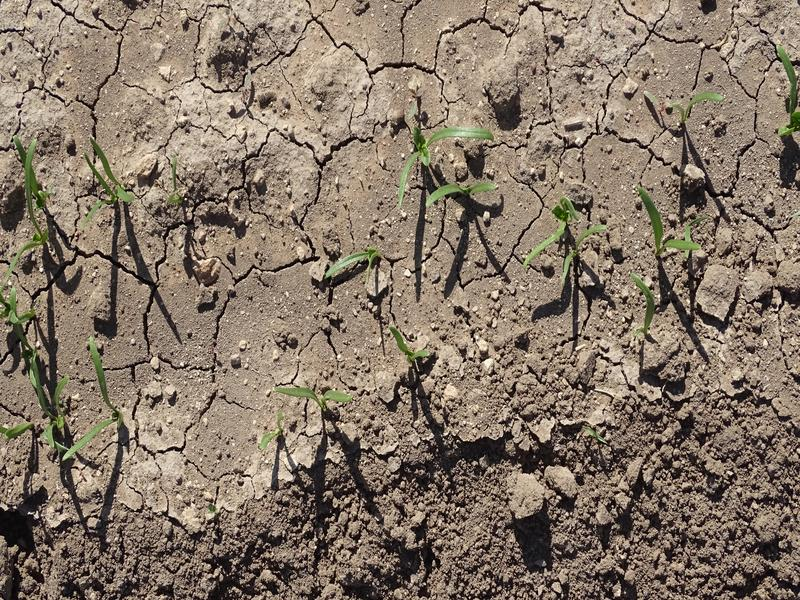Espinaca: (3, 298, 123, 460), (398, 124, 502, 203), (527, 197, 606, 282), (11, 141, 64, 254), (78, 148, 142, 216), (639, 188, 702, 256), (317, 237, 382, 282), (271, 384, 352, 411), (627, 273, 660, 331)
